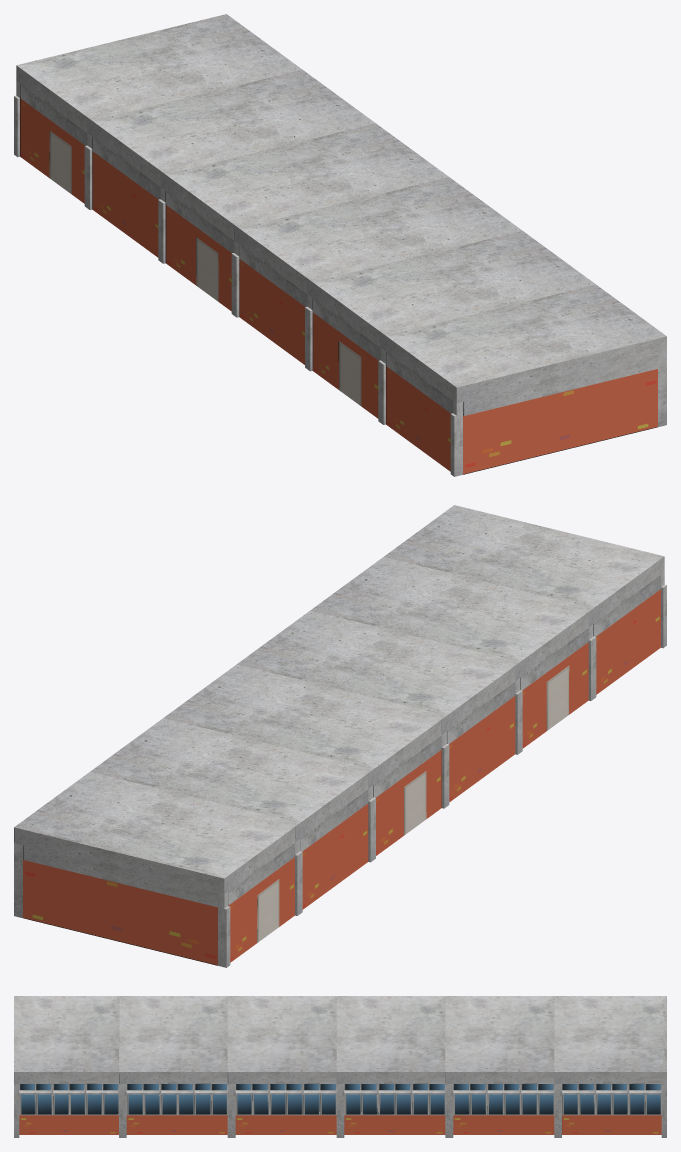
Rendered from edif-11.2.fbx.
3 views of the same model, one above another, from view 1: azimuth 30°, elevation 25°; view 2: azimuth 150°, elevation 25°; view 3: azimuth 270°, elevation 25° (orthographic). The views are drawn at different scales.
Visible parts, largest first — view 1: polySurface163; view 2: polySurface163; view 3: polySurface163.
Part boxes in pixels (x1,y1,x2,y2): polySurface163: (14, 14, 666, 476); polySurface163: (14, 505, 666, 967); polySurface163: (14, 996, 666, 1137).
Size of the model in its own units: 125 by 49.81 by 448.
1 material, 1 textured.
